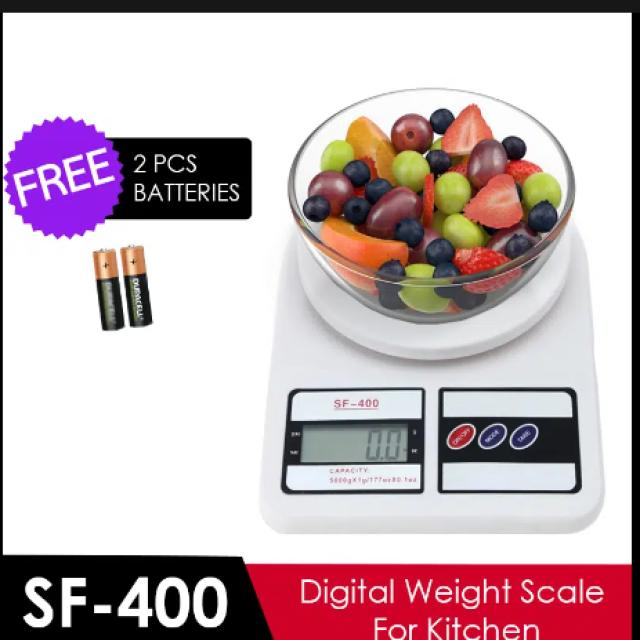.: (380, 455, 384, 461)
0: (366, 426, 384, 461), (385, 426, 402, 461)
screen: (303, 421, 408, 465)
